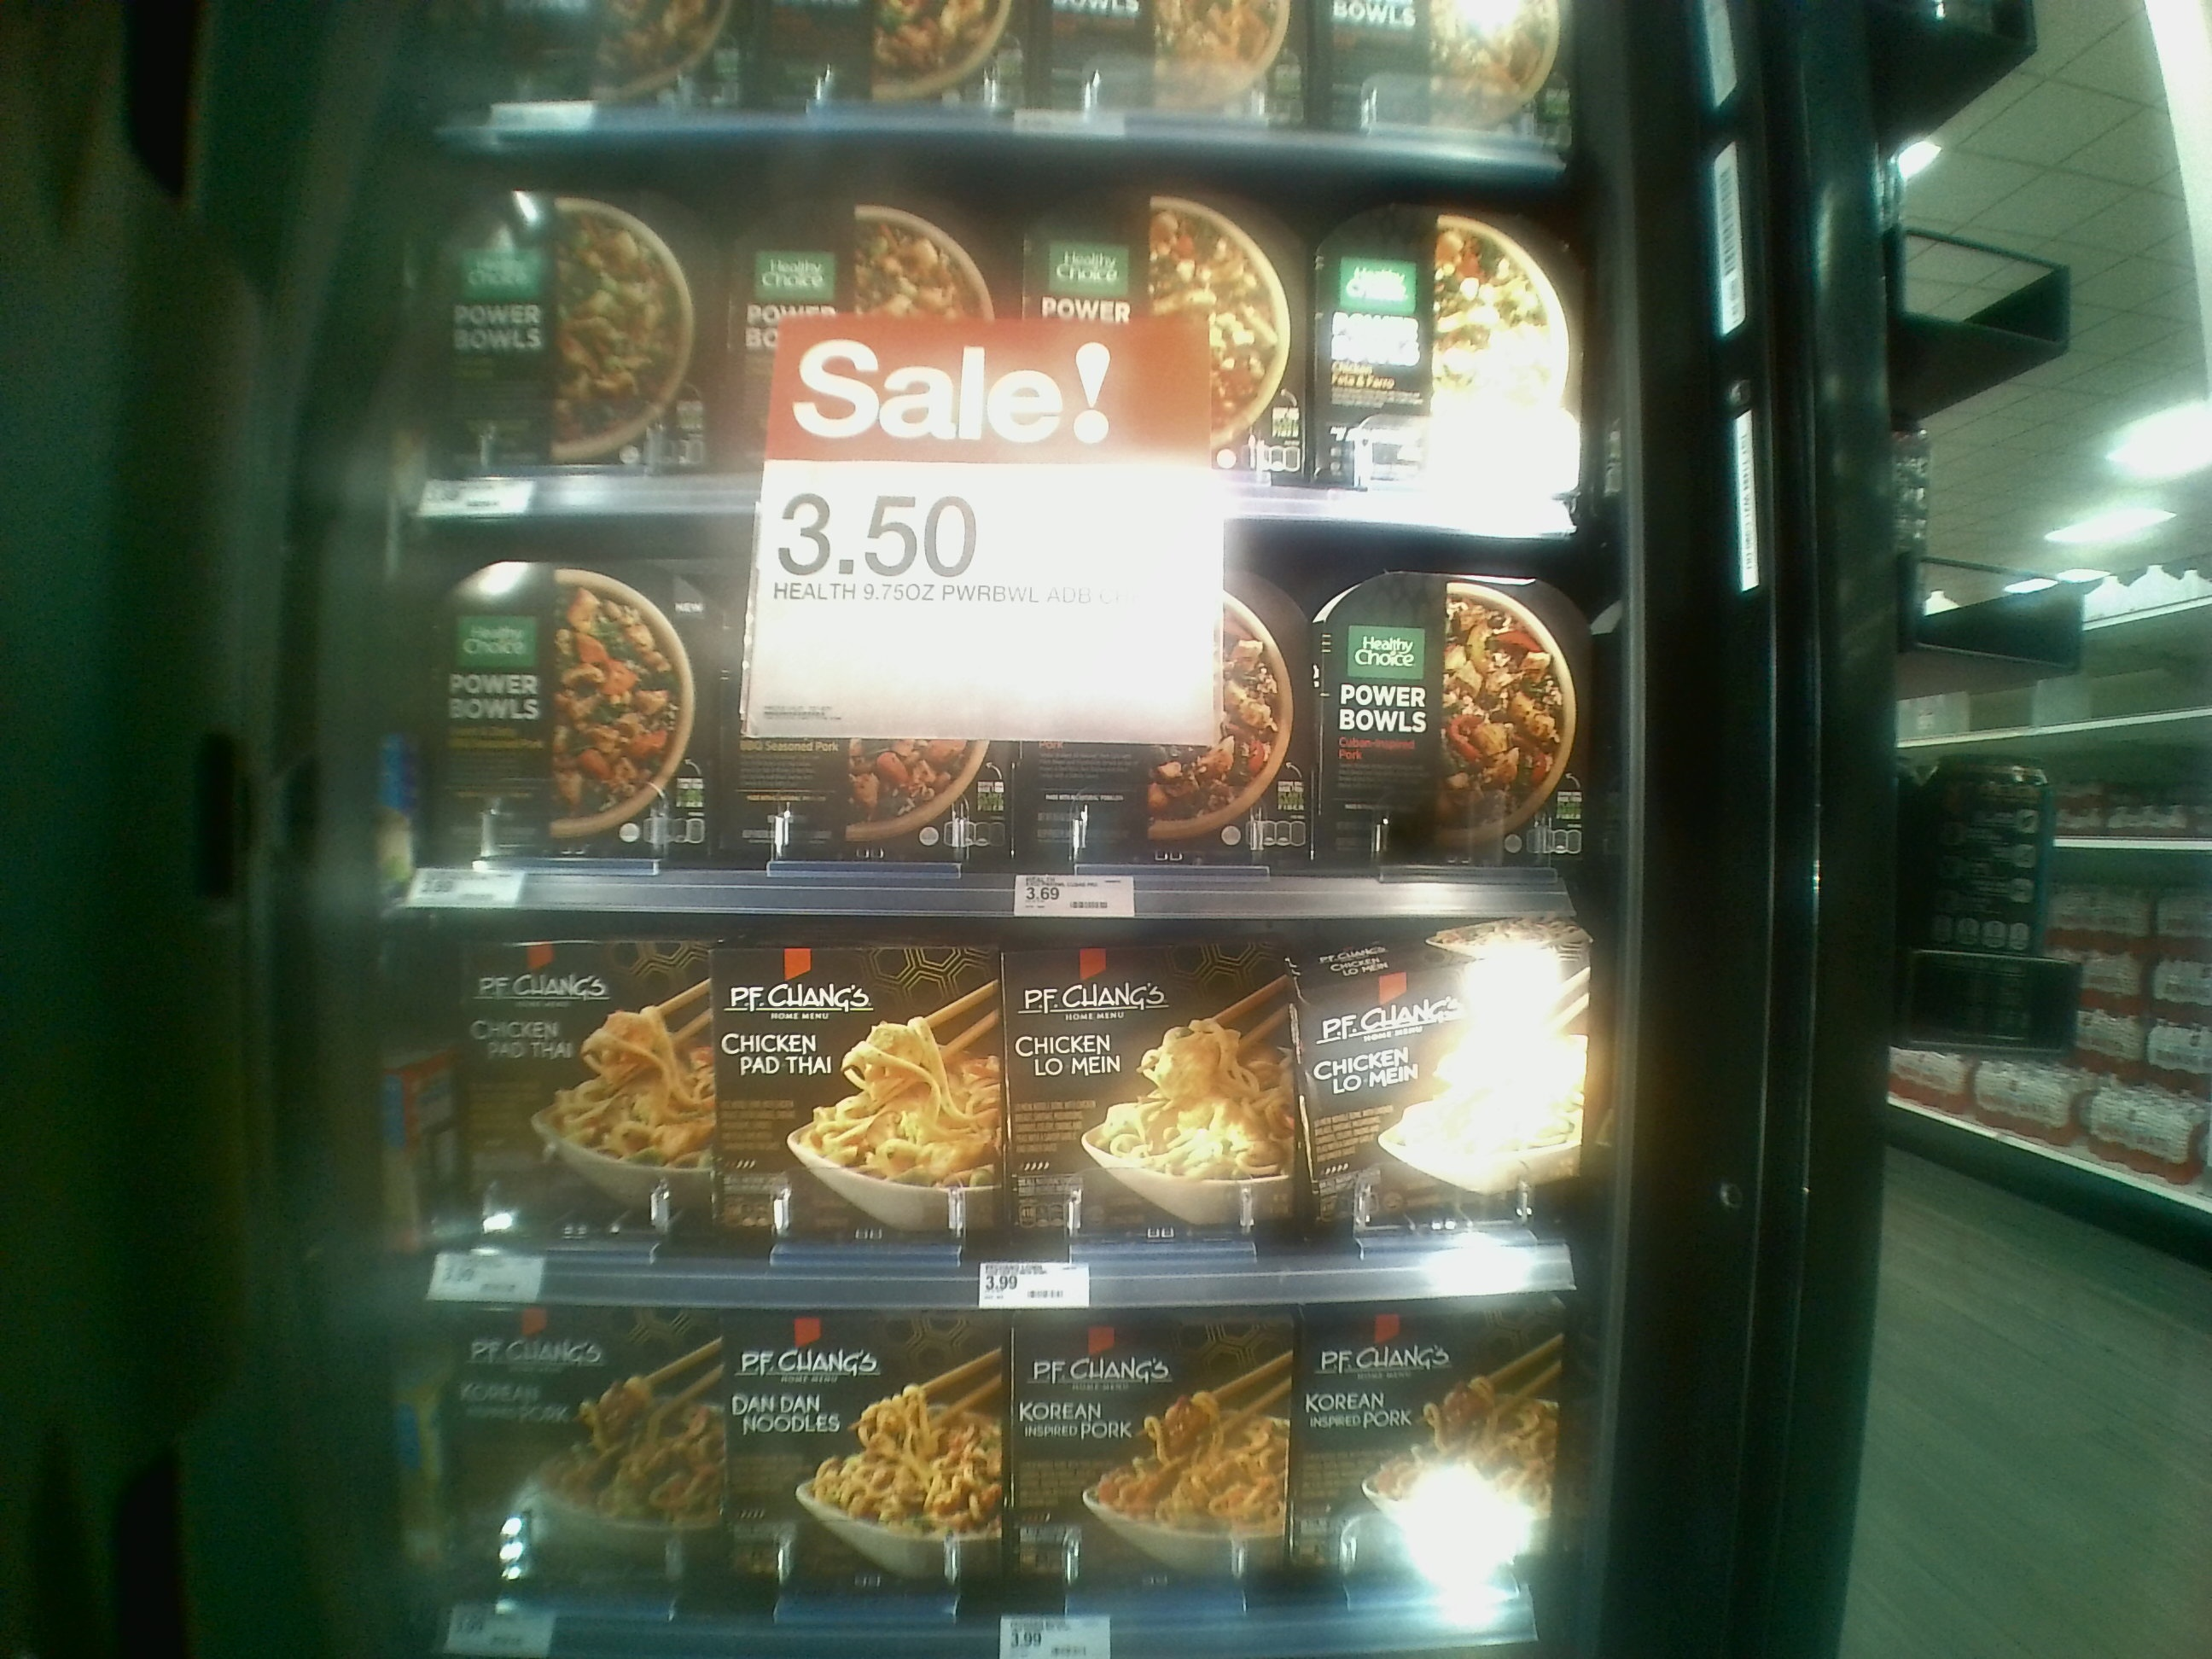shelf: (408, 897, 1590, 1324), (425, 500, 1581, 934)
